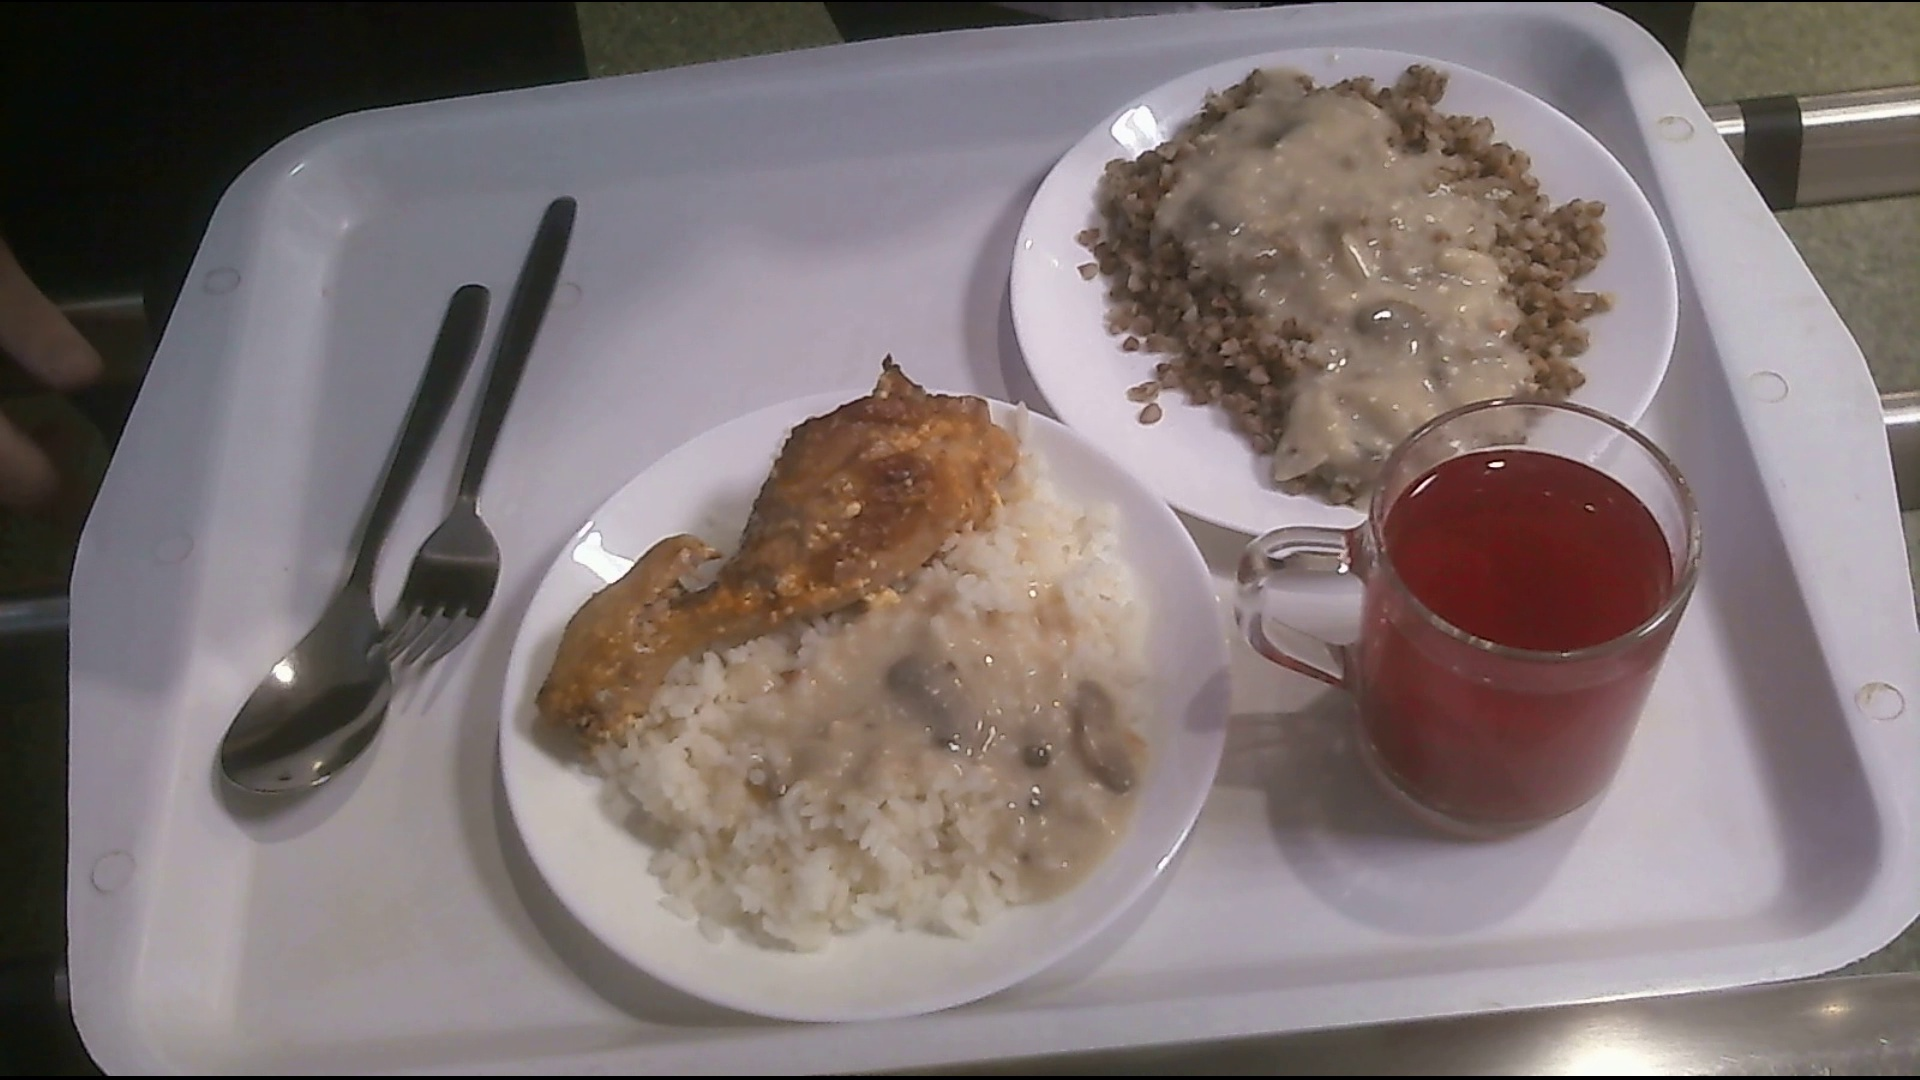cutlery: (222, 270, 485, 835), (380, 196, 595, 687)
drink: (1240, 401, 1704, 844)
plate: (502, 371, 1232, 1042), (990, 51, 1673, 531)
